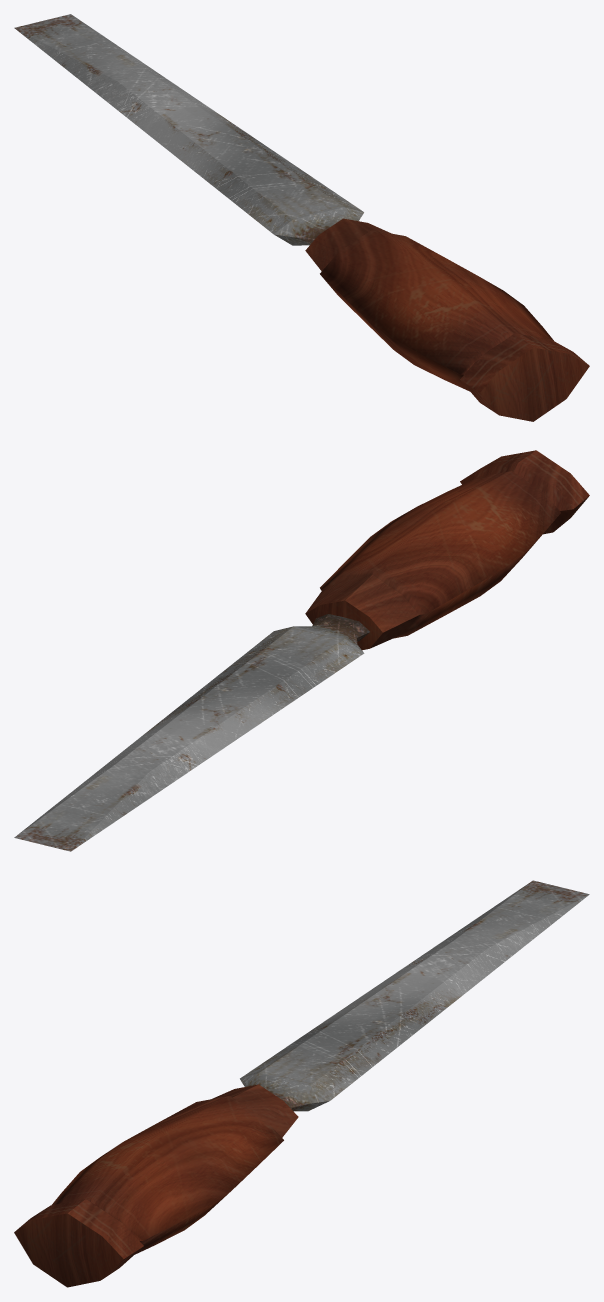
File: Chisel.fbx
3 renders of one model, top to bottom at view 1: azimuth 30°, elevation 25°; view 2: azimuth 150°, elevation 25°; view 3: azimuth 330°, elevation 25°, orthographic.
Parts seen in each view (by area): view 1: pCube2; view 2: pCube2; view 3: pCube2.
Part boxes in pixels (x1=…): pCube2: x1=14, y1=14, x2=589, y2=421; pCube2: x1=14, y1=450, x2=589, y2=851; pCube2: x1=14, y1=880, x2=589, y2=1287.
Bounding box in the file's own units: 1.84 × 1.19 × 11.91.
